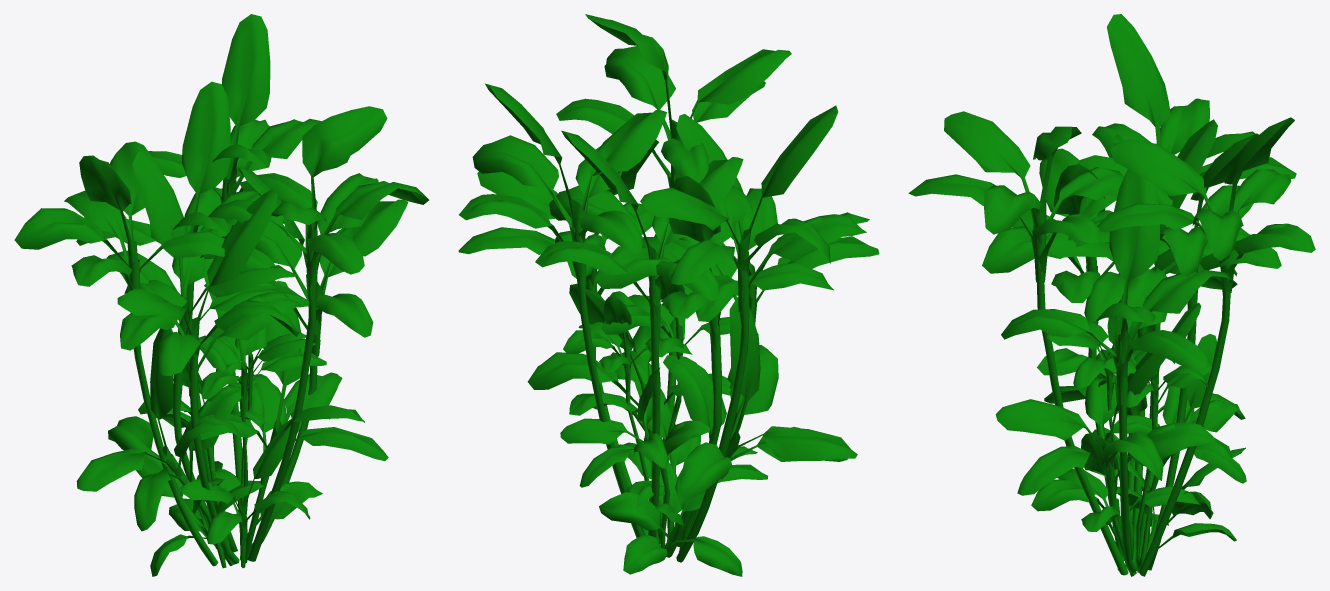
The picture shows the model from 3 angles, left to right: view 1: azimuth 30°, elevation 25°; view 2: azimuth 150°, elevation 25°; view 3: azimuth 270°, elevation 25°; orthographic projection. The views are drawn at different scales.
Parts seen in each view (by area): view 1: AM113_075_Dypsis_lutescens; view 2: AM113_075_Dypsis_lutescens; view 3: AM113_075_Dypsis_lutescens.
Boxes of the visible parts, left/top/right/bottom form: AM113_075_Dypsis_lutescens: left=14, top=14, right=428, bottom=576; AM113_075_Dypsis_lutescens: left=458, top=14, right=879, bottom=576; AM113_075_Dypsis_lutescens: left=908, top=14, right=1315, bottom=576.
Bounding box in the file's own units: 3188 × 4012 × 2953.
